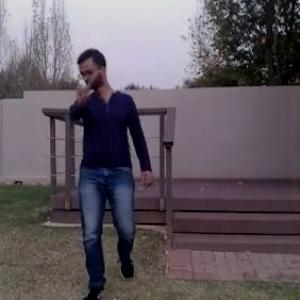takeoff-hand: (70, 71, 93, 103)
